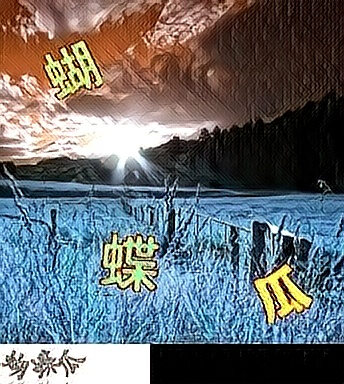B5FB: (99, 228, 162, 294)
B9CF: (251, 261, 314, 327)
BAFB: (42, 35, 105, 101)
